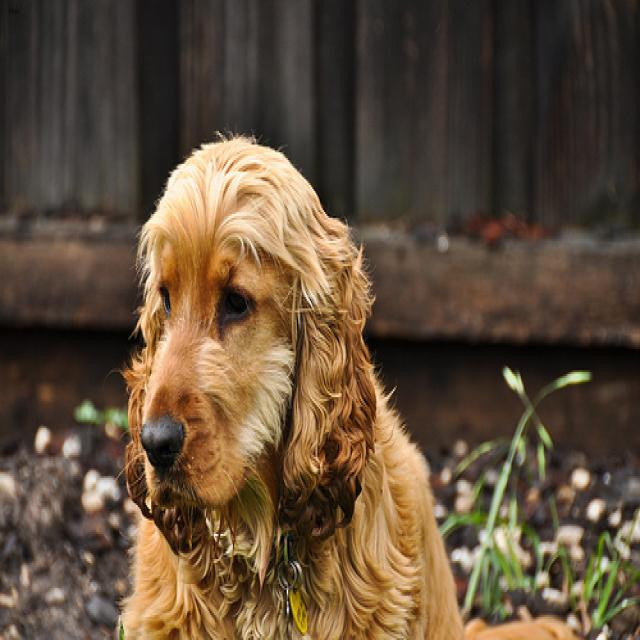dog-english_cocker_spaniel: (111, 123, 582, 636)
